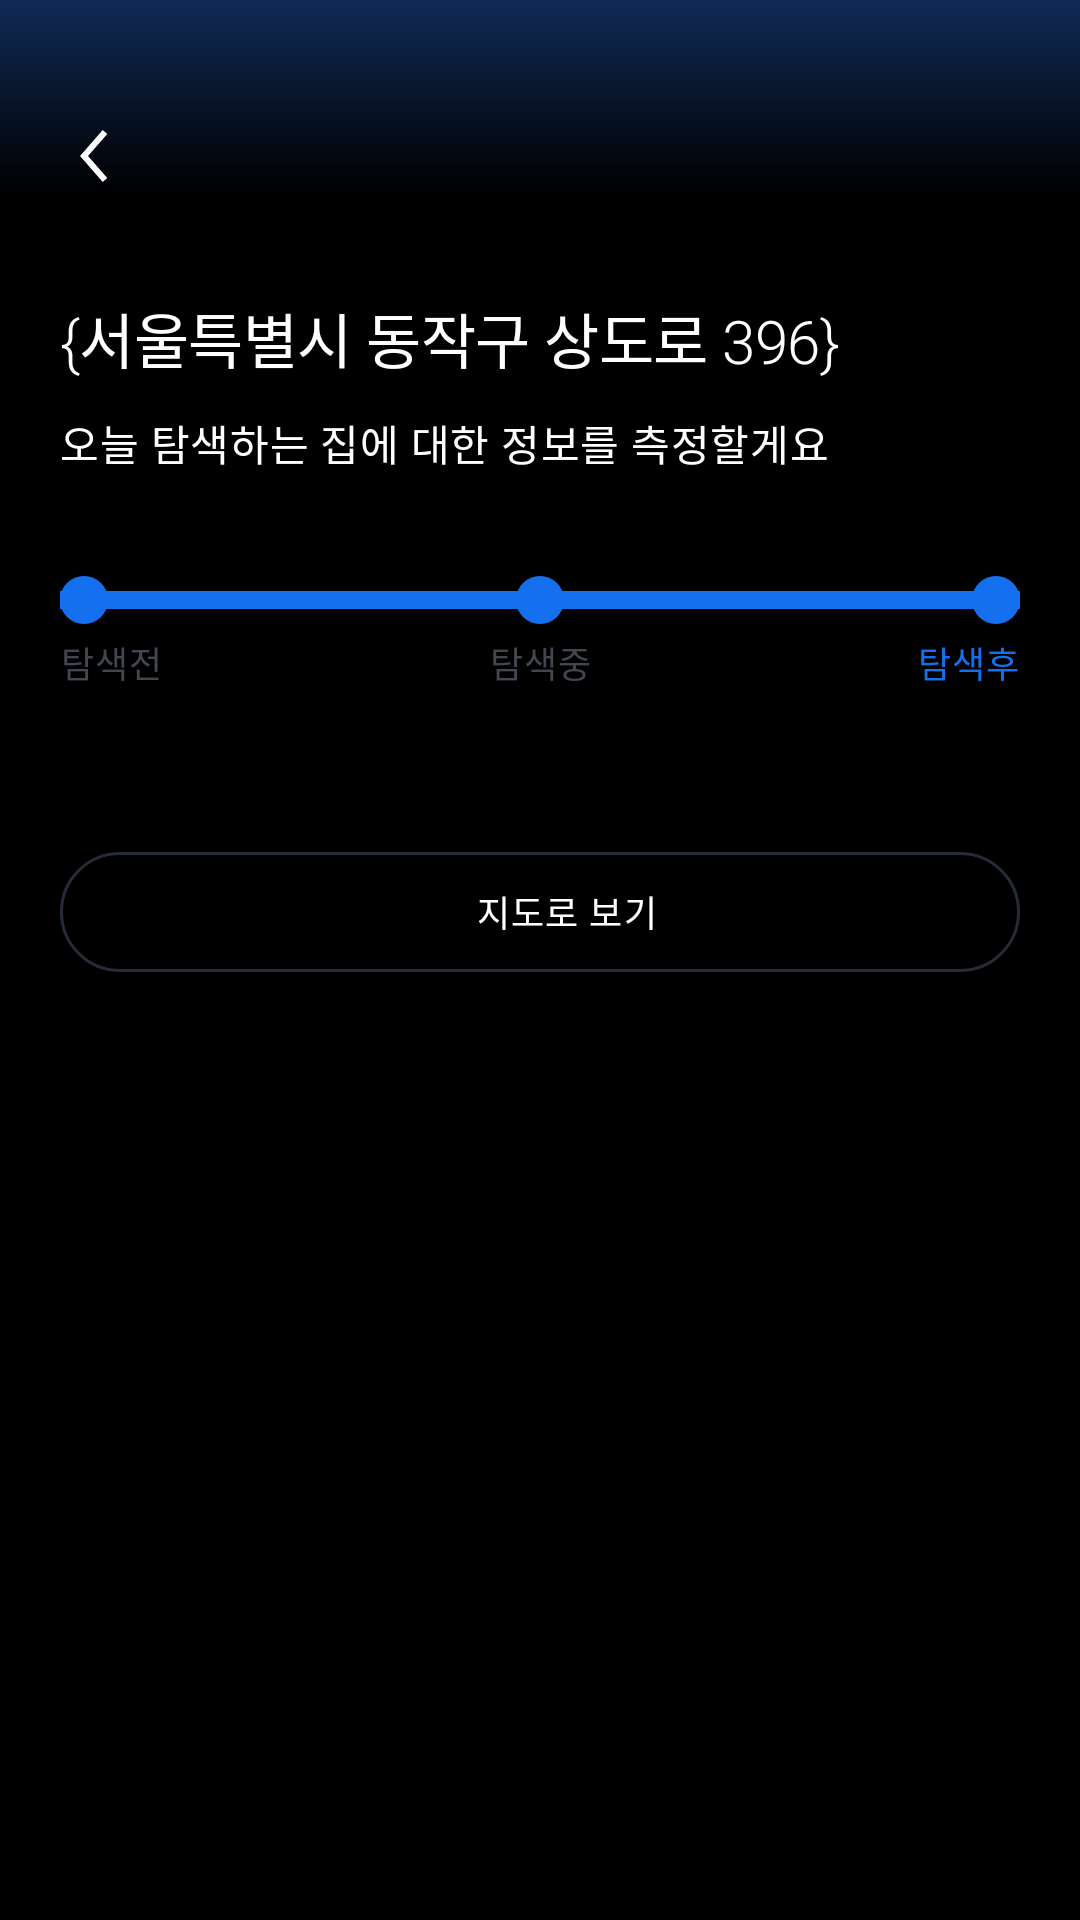

Icon bounding boxes for this 1080×1920 phone screenshot, format bbox(x1, y1, x2, y2):
back: bbox(60, 120, 132, 182)
